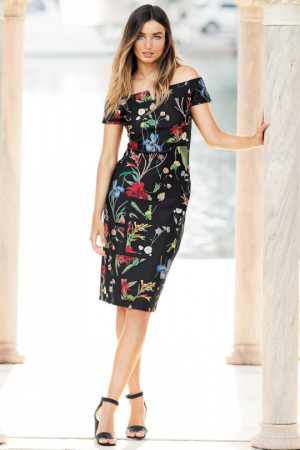C_dress: (87, 77, 231, 294)
